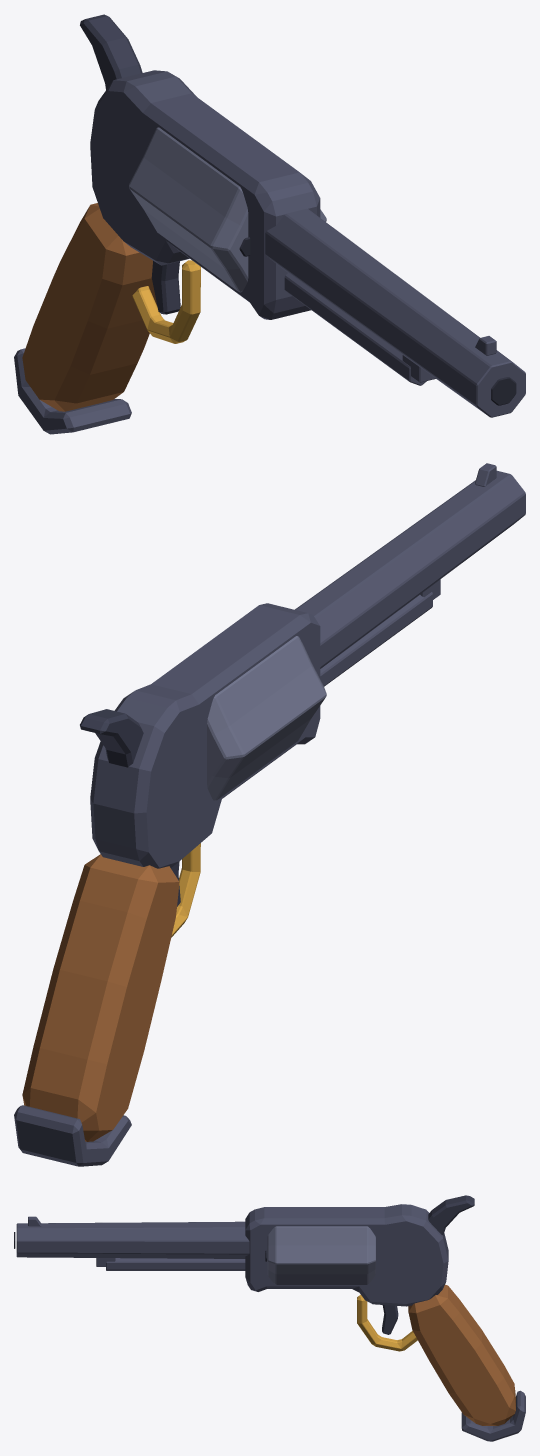
File: myw_revolver.glb
3 renders of one model, top to bottom at view 1: azimuth 30°, elevation 25°; view 2: azimuth 150°, elevation 25°; view 3: azimuth 270°, elevation 25°, orthographic. The views are drawn at different scales.
Visible parts, largest first — view 1: Frame, Barrel, Grip, Cylinder, Straps, Hammer, Trigger; view 2: Grip, Frame, Barrel, Cylinder, Straps, Hammer; view 3: Frame, Barrel, Grip, Cylinder, Straps, Hammer, Trigger.
Boxes of the visible parts, box(x1,y1,x2,y2) form: Frame: box(90, 70, 320, 319); Barrel: box(265, 208, 525, 417); Grip: box(22, 203, 157, 411); Cylinder: box(129, 127, 326, 292); Straps: box(14, 260, 200, 434); Hammer: box(80, 14, 142, 89); Trigger: box(151, 261, 180, 314); Grip: box(22, 854, 179, 1141); Frame: box(90, 603, 320, 868); Barrel: box(295, 463, 525, 686); Cylinder: box(207, 636, 326, 800); Straps: box(14, 843, 200, 1166); Hammer: box(80, 709, 143, 767); Frame: box(245, 1204, 448, 1306); Barrel: box(14, 1216, 249, 1270); Grip: box(408, 1284, 515, 1425); Cylinder: box(265, 1226, 375, 1284); Straps: box(357, 1294, 525, 1441); Hammer: box(428, 1195, 474, 1235); Trigger: box(382, 1305, 398, 1334).
Bounding box in the file's own units: 0.2669 × 0.9346 × 1.84.
